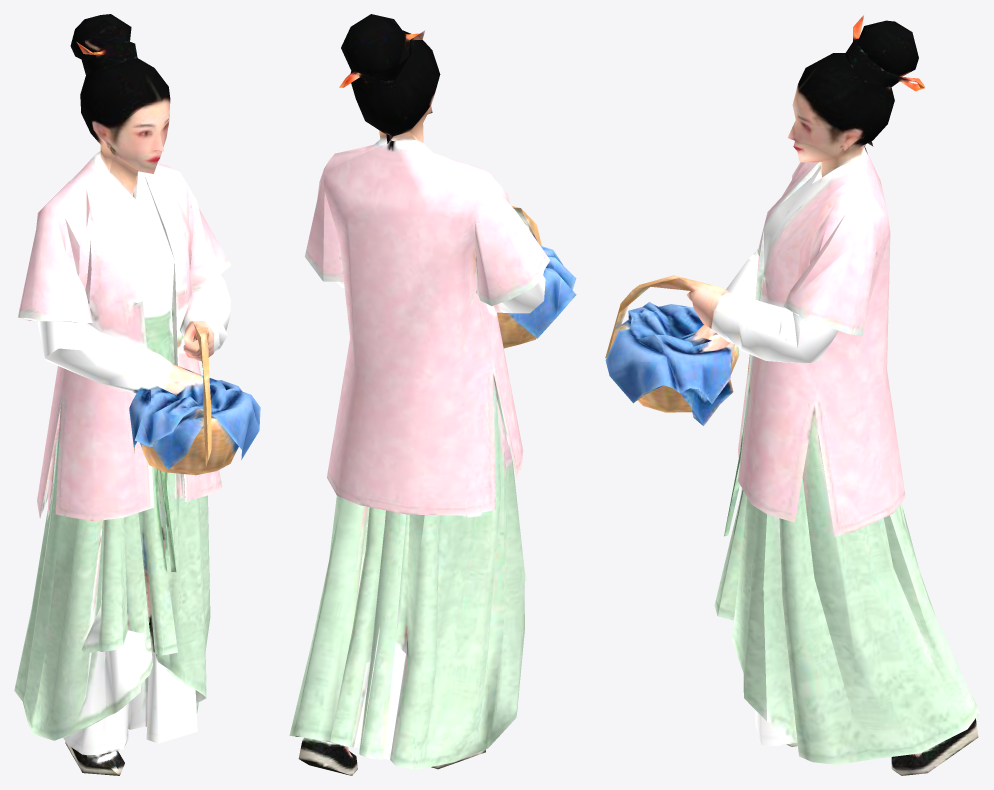
Rendered from p_woman_lo.glb.
The picture shows the model from 3 angles, left to right: view 1: azimuth 30°, elevation 25°; view 2: azimuth 150°, elevation 25°; view 3: azimuth 270°, elevation 25°; orthographic projection. The views are drawn at different scales.
Visible parts, largest first — view 1: p_woman; view 2: p_woman; view 3: p_woman.
Boxes of the visible parts, x1,y1,x2,y2 form: p_woman: (14,14,260,775); p_woman: (289,14,576,775); p_woman: (605,14,979,775).
Size of the model in its own units: 0.5129 by 1.65 by 0.7604.
Materials: 1 (1 with a texture image).
